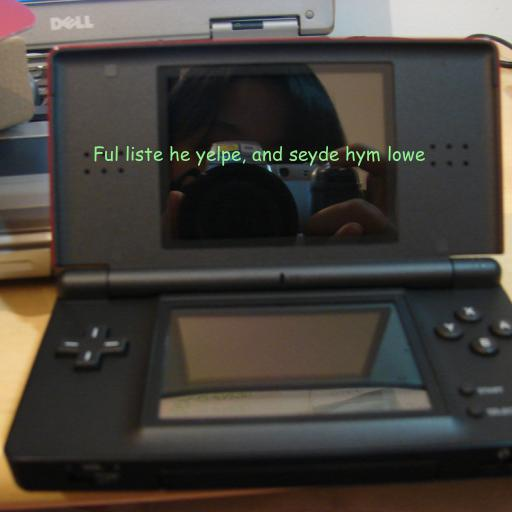Comic Sans MS: (93, 145, 425, 166)
